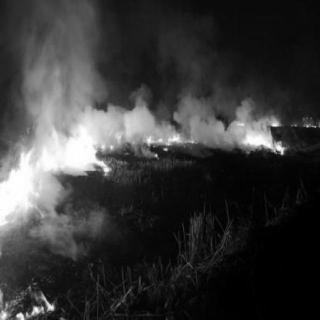Fire: (1, 128, 105, 222), (0, 278, 52, 318), (238, 109, 286, 151), (116, 125, 196, 149)
